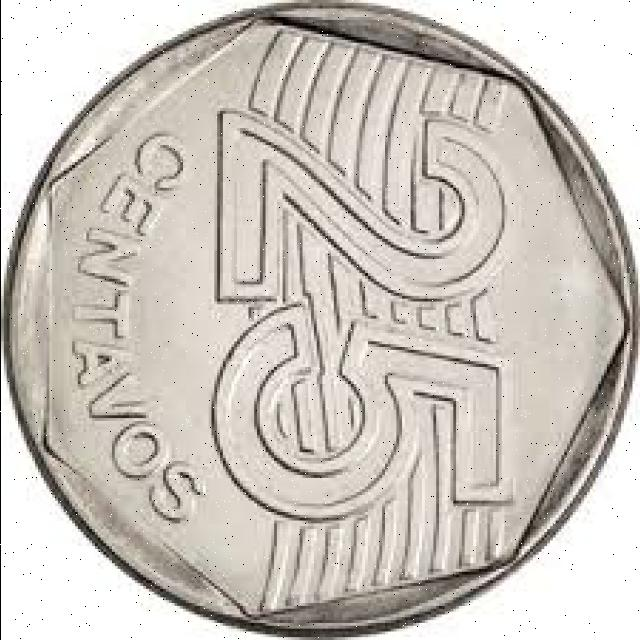25 cent: (8, 28, 640, 618)
